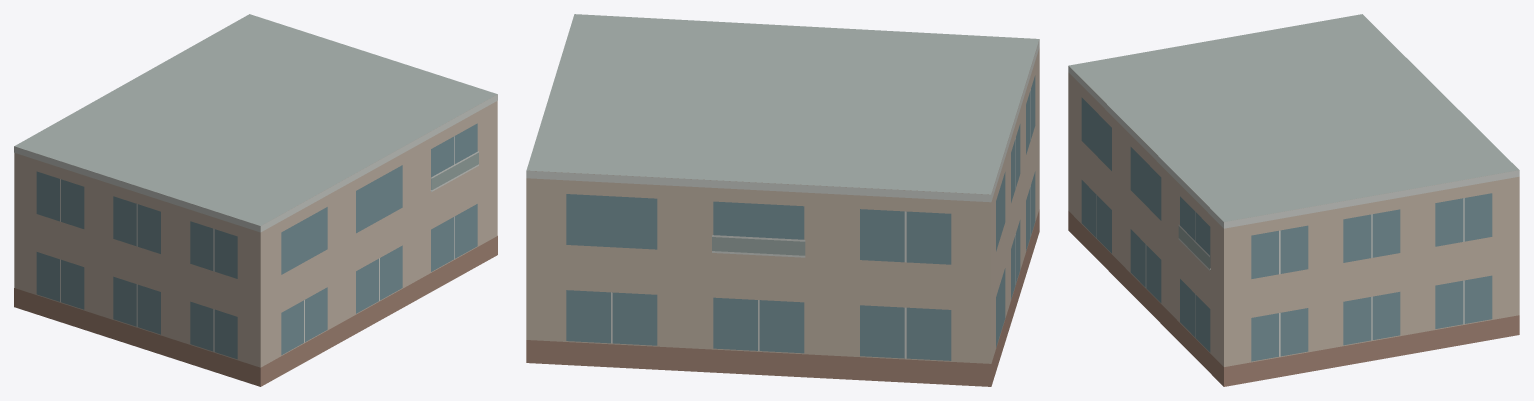
The model's file is survey-upis-32861280.glb.
3 views of the same model, side by side, from view 1: azimuth 30°, elevation 25°; view 2: azimuth 150°, elevation 25°; view 3: azimuth 270°, elevation 25° (orthographic). The views are drawn at different scales.
Parts seen in each view (by area): view 1: survey-upis-32861280.tmp; view 2: survey-upis-32861280.tmp; view 3: survey-upis-32861280.tmp.
Boxes of the visible parts, x1,y1,x2,y2 form: survey-upis-32861280.tmp: (14,14,497,386); survey-upis-32861280.tmp: (526,14,1039,386); survey-upis-32861280.tmp: (1068,14,1519,386).
Bounding box in the file's own units: 16.53 × 6.1 × 15.14.
